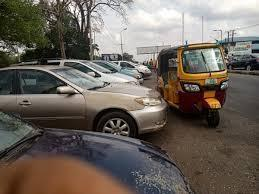keke: (155, 42, 232, 126)
